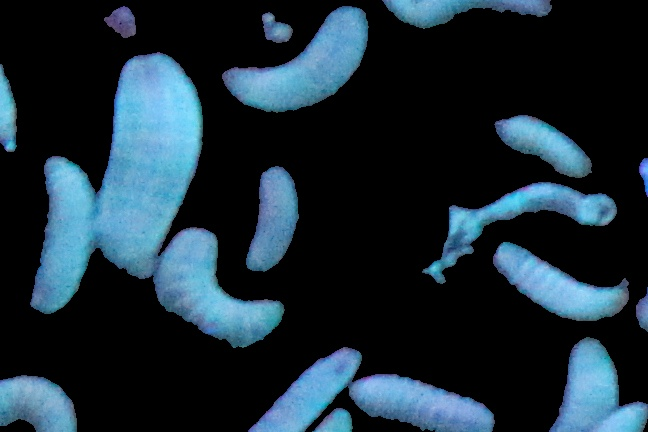larvae: (93, 58, 203, 277), (229, 9, 370, 119), (158, 228, 282, 346), (490, 232, 635, 329), (29, 155, 96, 319), (351, 375, 503, 432), (490, 109, 596, 184), (552, 337, 626, 432), (243, 170, 302, 272), (1, 364, 79, 432), (376, 1, 558, 24)
